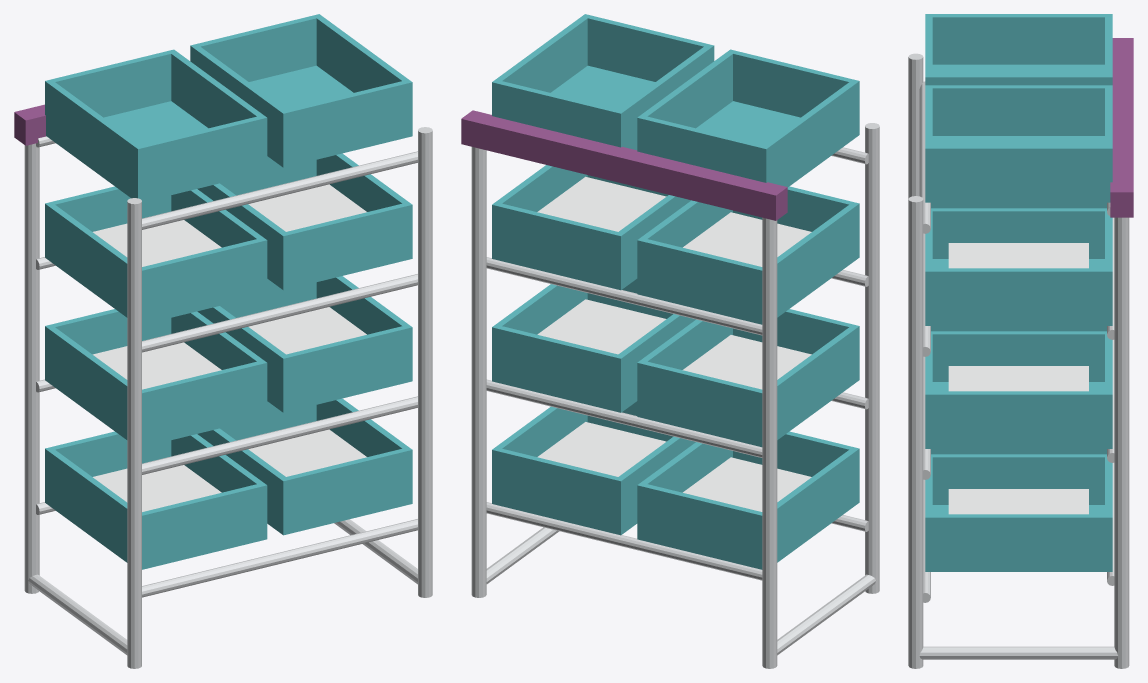
Rendered from pharmacy-and-high-street-chemist-prescription-basket-r-f5766375__37520.glb.
3 views of the same model, side by side, from view 1: azimuth 30°, elevation 25°; view 2: azimuth 150°, elevation 25°; view 3: azimuth 270°, elevation 25° (orthographic).
Parts seen in each view (by area): view 1: prescription-basket-rack; view 2: prescription-basket-rack; view 3: prescription-basket-rack.
Part boxes in pixels (x1,y1,x2,y2): prescription-basket-rack: (14, 14, 432, 668); prescription-basket-rack: (461, 14, 879, 668); prescription-basket-rack: (908, 14, 1133, 668).
Size of the model in its own units: 0.78 by 1.21 by 0.481.
